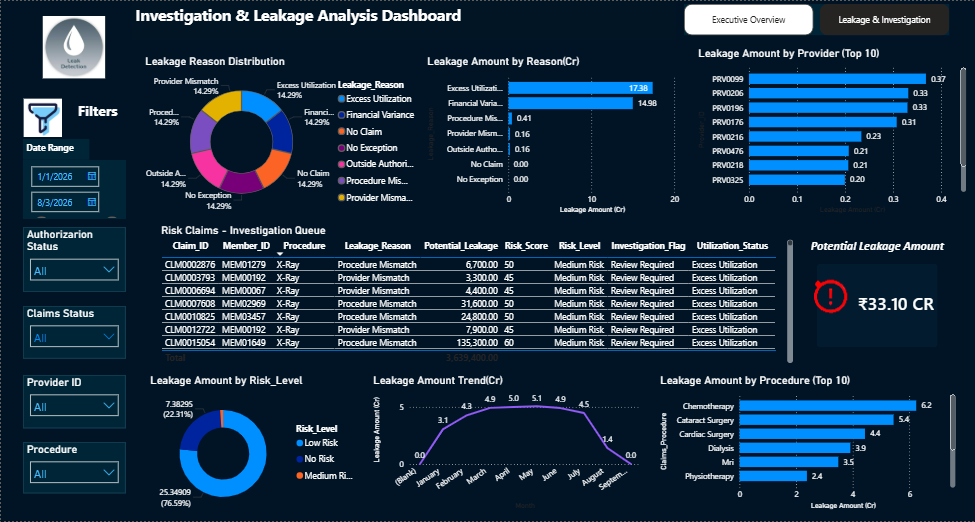

Layout of this report page (visuals, bound fields, positions):
{"tool":"powerbi","page":{"name":"Leakage & Investigation","canvas":[1500,800],"ordinal":1},"visuals":[{"type":"textbox","box":[201.6,0,836.8,59.2],"z":0},{"type":"slicer","title":"Authorizarion Status","fields":{"Values":["Authorizations.Authorization_Status"]},"box":[33.9,348.4,158.1,100],"z":1000},{"type":"slicer","title":"Claims Status","fields":{"Values":["Authorizations.Claims.Claim_Status"]},"box":[33.9,469.4,158.1,80.6],"z":2000},{"type":"slicer","title":"Procedure","fields":{"Values":["Authorizations.Procedure"]},"box":[33.9,679,158.1,79],"z":3000},{"type":"slicer","title":"Provider ID","fields":{"Values":["Authorizations.Provider_ID"]},"box":[33.9,575.8,158.1,82.3],"z":4000},{"type":"slicer","fields":{"Values":["Authorizations.Approved_Start_Date"]},"box":[33.9,245.2,158.1,90.3],"z":5000},{"type":"textbox","box":[104,148.8,88,48],"z":6000},{"type":"image","box":[9.6,22.4,206.4,96],"z":7000},{"type":"image","box":[33.6,148.8,60.8,60.8],"z":8000},{"type":"donutChart","title":"Leakage Reason Distribution","fields":{"Y":["KPI Measures.Leakage Claims"],"Category":["Authorizations.Leakage_Reason"]},"box":[216.2,82.4,434.2,248.9],"z":9000},{"type":"barChart","title":"Leakage Amount by Reason(Cr)","fields":{"Y":["KPI Measures.Leakage Amount (Cr)"],"Category":["Authorizations.Leakage_Reason"]},"box":[650.5,82.4,399.9,248.9],"z":10000},{"type":"clusteredBarChart","title":"Leakage Amount by Provider (Top 10)","fields":{"Category":["Authorizations.Provider_ID"],"Y":["KPI Measures.Leakage Amount (Cr)"]},"box":[1067.5,70.4,422.2,260.9],"z":11000},{"type":"tableEx","title":"Risk Claims - Investigation Queue","fields":{"Values":["Authorizations.Claim_ID","Authorizations.Claims.Member_ID","Authorizations.Claims_Procedure","Authorizations.Leakage_Reason","Sum(Authorizations.Potential_Leakage)","Authorizations.Risk_Score","Authorizations.Risk_Level","Authorizations.Investigation_Flag","Authorizations.Utilization_Status"]},"box":[241.9,343.5,982.3,219.4],"z":12000},{"type":"donutChart","title":"Leakage Amount by Risk_Level","fields":{"Category":["Authorizations.Risk_Level"],"Y":["KPI Measures.Leakage Amount (Cr)"]},"box":[224,574.4,331.2,225.6],"z":13000},{"type":"lineChart","title":"Leakage Amount Trend(Cr)","fields":{"Category":["Authorizations.Claims.Service_Date.Variation.Date Hierarchy.Month"],"Y":["KPI Measures.Leakage Amount (Cr)"]},"box":[568,574.4,420.8,212.8],"z":14000},{"type":"clusteredBarChart","title":"Leakage Amount by Procedure (Top 10)","fields":{"Category":["Authorizations.Claims_Procedure"],"Y":["KPI Measures.Leakage Amount (Cr)"]},"box":[1009.6,574.4,464,212.8],"z":15000},{"type":"textbox","box":[33.9,212.9,101.6,32.3],"z":16000},{"type":"pageNavigator","box":[1050,4.8,408.1,48.4],"z":17000},{"type":"cardVisual","title":"Potential Leakage Amount","fields":{"Data":["KPI Measures.Leakage Amount (Cr) Display"]},"box":[1238.7,364.5,219.4,185.5],"z":18000},{"type":"image","box":[1238.7,403.2,64.5,100],"z":19000}]}

Visuals, with their boxes in screenshot pixels (x1, y1, x2, y2), scaled from the page's 1500x800 canvas onto the 975x522 screenshot:
textbox: bbox(131, 0, 675, 39)
"Authorizarion Status" slicer: bbox(22, 227, 125, 293)
"Claims Status" slicer: bbox(22, 306, 125, 359)
"Procedure" slicer: bbox(22, 443, 125, 495)
"Provider ID" slicer: bbox(22, 376, 125, 429)
slicer - Authorizations.Approved_Start_Date: bbox(22, 160, 125, 219)
textbox: bbox(68, 97, 125, 128)
image: bbox(6, 15, 140, 77)
image: bbox(22, 97, 61, 137)
"Leakage Reason Distribution" donutChart: bbox(141, 54, 423, 216)
"Leakage Amount by Reason(Cr)" barChart: bbox(423, 54, 683, 216)
"Leakage Amount by Provider (Top 10)" clusteredBarChart: bbox(694, 46, 968, 216)
"Risk Claims - Investigation Queue" tableEx: bbox(157, 224, 796, 367)
"Leakage Amount by Risk_Level" donutChart: bbox(146, 375, 361, 521)
"Leakage Amount Trend(Cr)" lineChart: bbox(369, 375, 643, 514)
"Leakage Amount by Procedure (Top 10)" clusteredBarChart: bbox(656, 375, 958, 514)
textbox: bbox(22, 139, 88, 160)
pageNavigator: bbox(682, 3, 948, 35)
"Potential Leakage Amount" cardVisual: bbox(805, 238, 948, 359)
image: bbox(805, 263, 847, 328)
